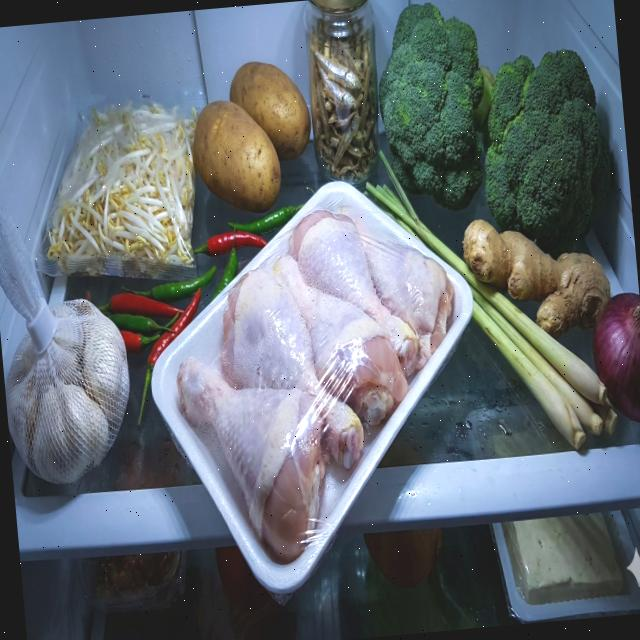anchovies: (303, 16, 386, 190)
bean_sprouts: (32, 95, 210, 285)
brocolli: (369, 0, 613, 258)
chicken: (160, 196, 477, 572)
chili: (94, 265, 230, 430), (190, 206, 312, 306)
garlic: (0, 293, 139, 492)
ginger: (460, 206, 614, 344)
lemongrass: (359, 126, 620, 467)
onion: (588, 290, 640, 428)
potato: (185, 54, 318, 216)
tofu: (500, 510, 626, 605)
